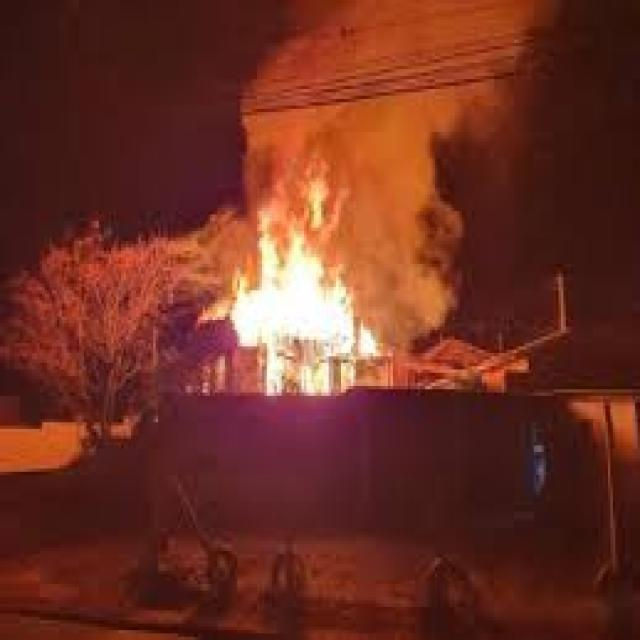Fire: (204, 273, 380, 398), (251, 210, 340, 271), (297, 152, 350, 208)
Smoke: (383, 6, 546, 338), (236, 3, 378, 146), (204, 158, 250, 270), (351, 157, 382, 264)
